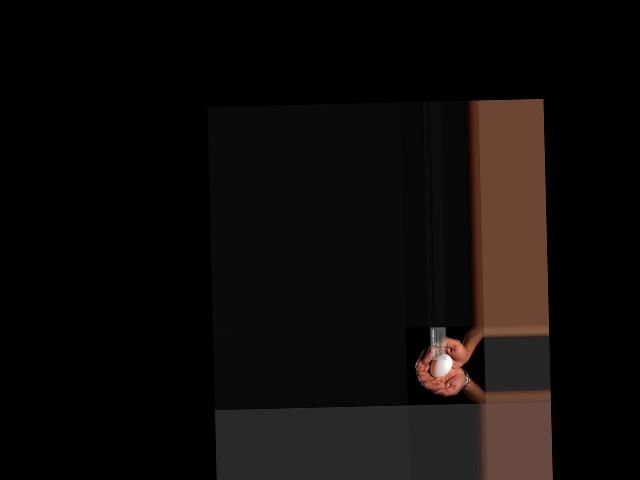egg: (429, 353, 452, 378)
